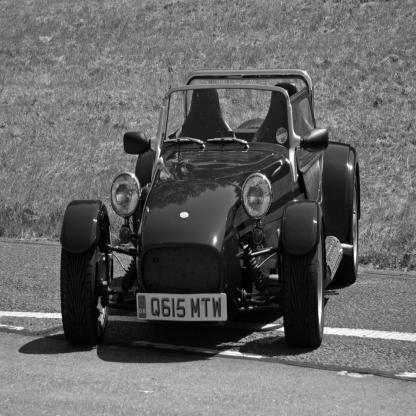car: (66, 68, 362, 356)
